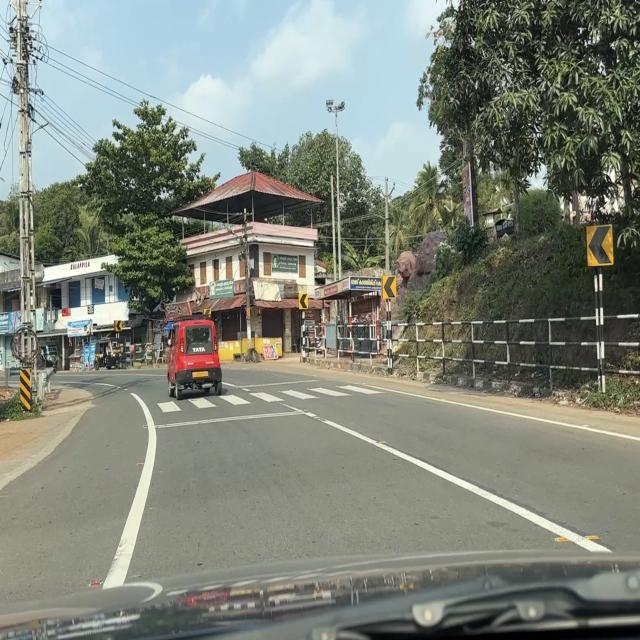TURN_LEFT: (585, 223, 614, 268), (382, 274, 397, 300), (298, 293, 308, 310), (115, 320, 122, 332)
